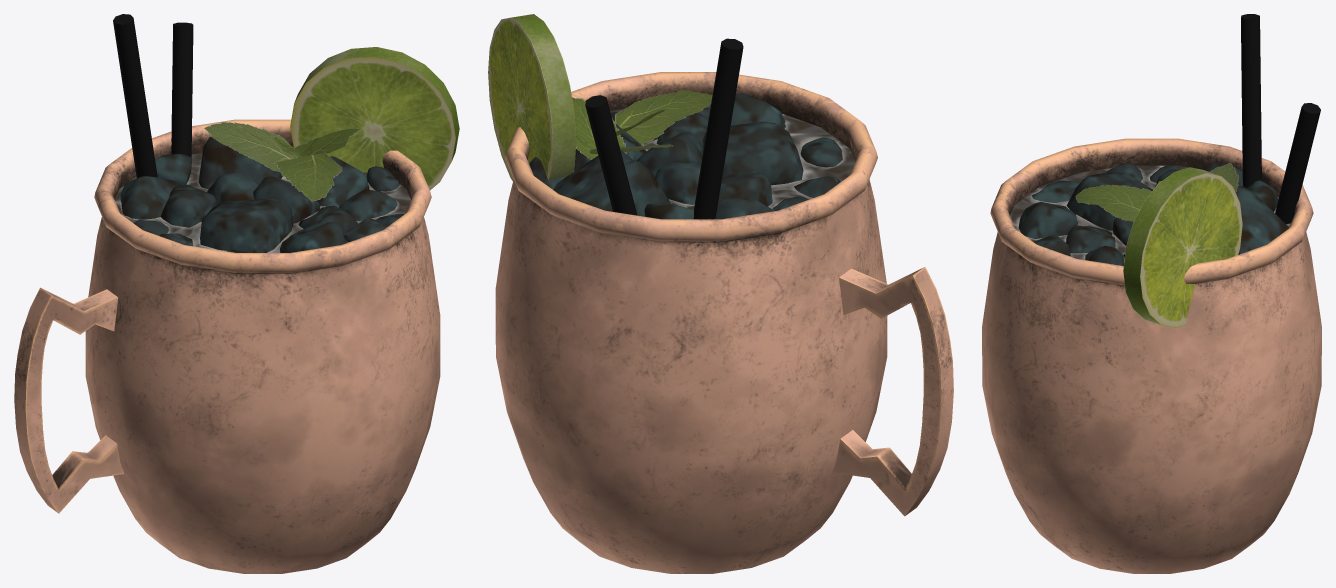
The model's file is moscow-mule.glb.
3 views of the same model, side by side, from view 1: azimuth 30°, elevation 25°; view 2: azimuth 150°, elevation 25°; view 3: azimuth 270°, elevation 25° (orthographic). The views are drawn at different scales.
Parts seen in each view (by area): view 1: moscow_mule_M_moscow_mule_0; view 2: moscow_mule_M_moscow_mule_0; view 3: moscow_mule_M_moscow_mule_0.
Part boxes in pixels (left/top/right/bottom): moscow_mule_M_moscow_mule_0: left=14, top=14, right=459, bottom=573; moscow_mule_M_moscow_mule_0: left=488, top=14, right=953, bottom=573; moscow_mule_M_moscow_mule_0: left=982, top=14, right=1321, bottom=573.
Bounding box in the file's own units: 0.132 × 0.1458 × 0.0947.
1 material, 1 textured.
